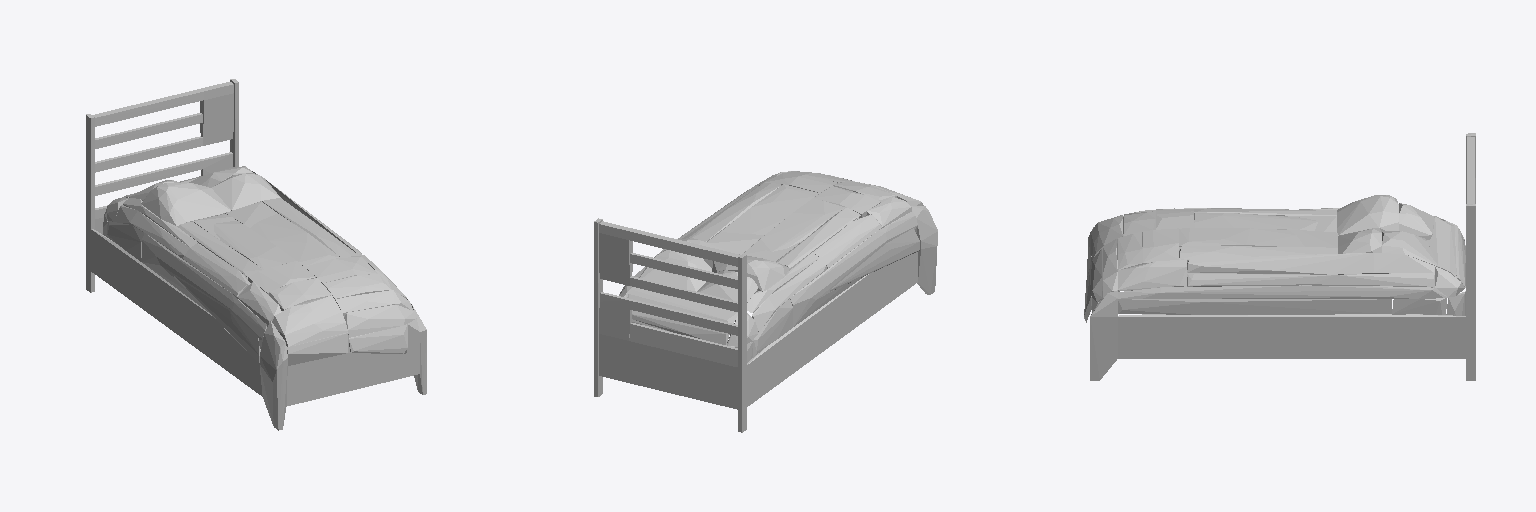
The model's file is bed_single_reduced_vhacd.obj.
3 views of the same model, side by side, from view 1: azimuth 30°, elevation 25°; view 2: azimuth 150°, elevation 25°; view 3: azimuth 270°, elevation 25° (orthographic).
Parts seen in each view (by area): view 1: convex_39, convex_16, convex_28, convex_7, convex_17, convex_8, convex_53, convex_45, convex_2, convex_52, convex_19, convex_47 (+22 smaller); view 2: convex_39, convex_9, convex_28, convex_6, convex_53, convex_45, convex_2, convex_0, convex_8, convex_47, convex_13, convex_5 (+19 smaller); view 3: convex_34, convex_15, convex_29, convex_35, convex_14, convex_53, convex_3, convex_7, convex_1, convex_33, convex_45, convex_54 (+15 smaller).
Boxes of the visible parts, x1=… form: convex_39: x1=91, y1=229, x2=262, y2=396; convex_16: x1=287, y1=318, x2=419, y2=405; convex_28: x1=141, y1=233, x2=266, y2=348; convex_7: x1=141, y1=183, x2=230, y2=225; convex_17: x1=272, y1=295, x2=347, y2=346; convex_8: x1=259, y1=321, x2=287, y2=430; convex_53: x1=250, y1=213, x2=339, y2=266; convex_45: x1=214, y1=221, x2=295, y2=269; convex_2: x1=200, y1=82, x2=233, y2=145; convex_52: x1=212, y1=173, x2=280, y2=210; convex_19: x1=344, y1=305, x2=415, y2=337; convex_47: x1=183, y1=244, x2=250, y2=297; convex_39: x1=747, y1=252, x2=917, y2=406; convex_9: x1=629, y1=323, x2=737, y2=409; convex_28: x1=790, y1=211, x2=917, y2=326; convex_6: x1=599, y1=292, x2=631, y2=382; convex_53: x1=721, y1=184, x2=819, y2=234; convex_45: x1=753, y1=198, x2=844, y2=251; convex_2: x1=599, y1=221, x2=632, y2=285; convex_0: x1=738, y1=254, x2=746, y2=432; convex_8: x1=911, y1=206, x2=937, y2=294; convex_47: x1=814, y1=214, x2=882, y2=268; convex_13: x1=830, y1=228, x2=919, y2=291; convex_5: x1=629, y1=229, x2=739, y2=266; convex_34: x1=1118, y1=314, x2=1465, y2=358; convex_15: x1=1187, y1=253, x2=1434, y2=274; convex_29: x1=1118, y1=299, x2=1391, y2=314; convex_35: x1=1118, y1=285, x2=1447, y2=298; convex_14: x1=1187, y1=272, x2=1434, y2=287; convex_53: x1=1179, y1=228, x2=1304, y2=246; convex_3: x1=1090, y1=290, x2=1117, y2=380; convex_7: x1=1337, y1=195, x2=1398, y2=235; convex_1: x1=1466, y1=204, x2=1475, y2=380; convex_33: x1=1118, y1=259, x2=1186, y2=290; convex_45: x1=1194, y1=213, x2=1317, y2=230; convex_54: x1=1179, y1=246, x2=1337, y2=262.
Size of the model in its own units: 0.9664 by 1.06 by 2.15.